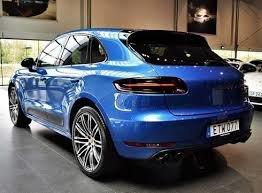license-plates: (208, 120, 240, 136)
